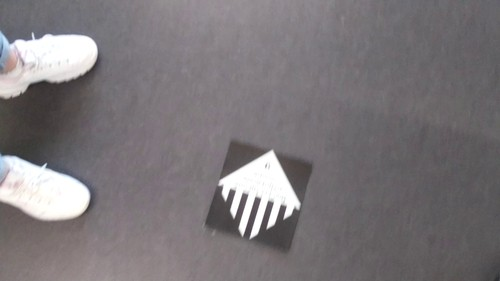misgoods: (215, 147, 305, 236)
